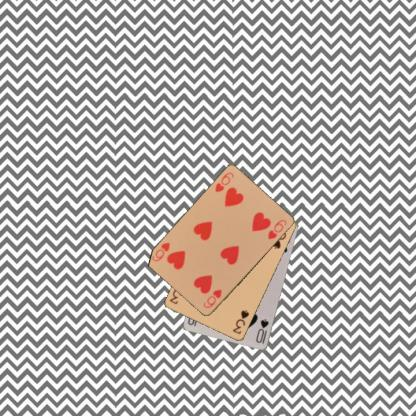10s: (254, 317, 270, 345)
3s: (230, 307, 250, 336)
6h: (201, 286, 223, 310), (213, 170, 235, 193)
